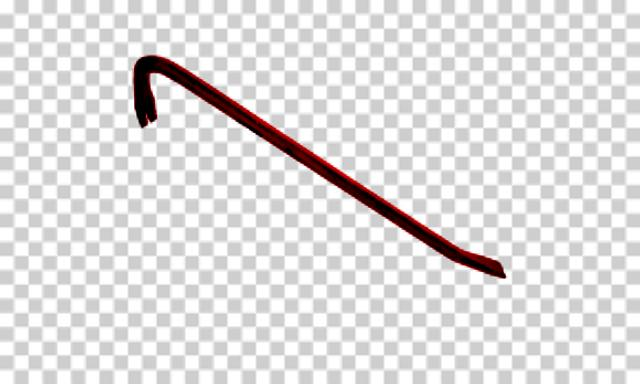crow bar: (123, 51, 509, 285)
